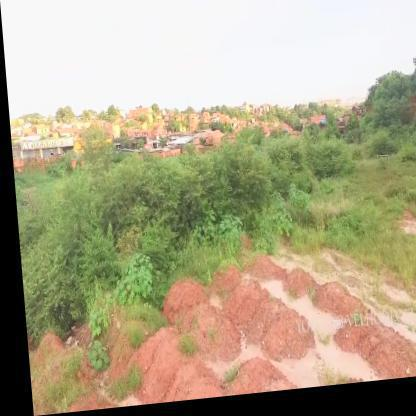agua: (277, 356, 360, 390), (207, 353, 250, 371), (257, 284, 278, 304)
